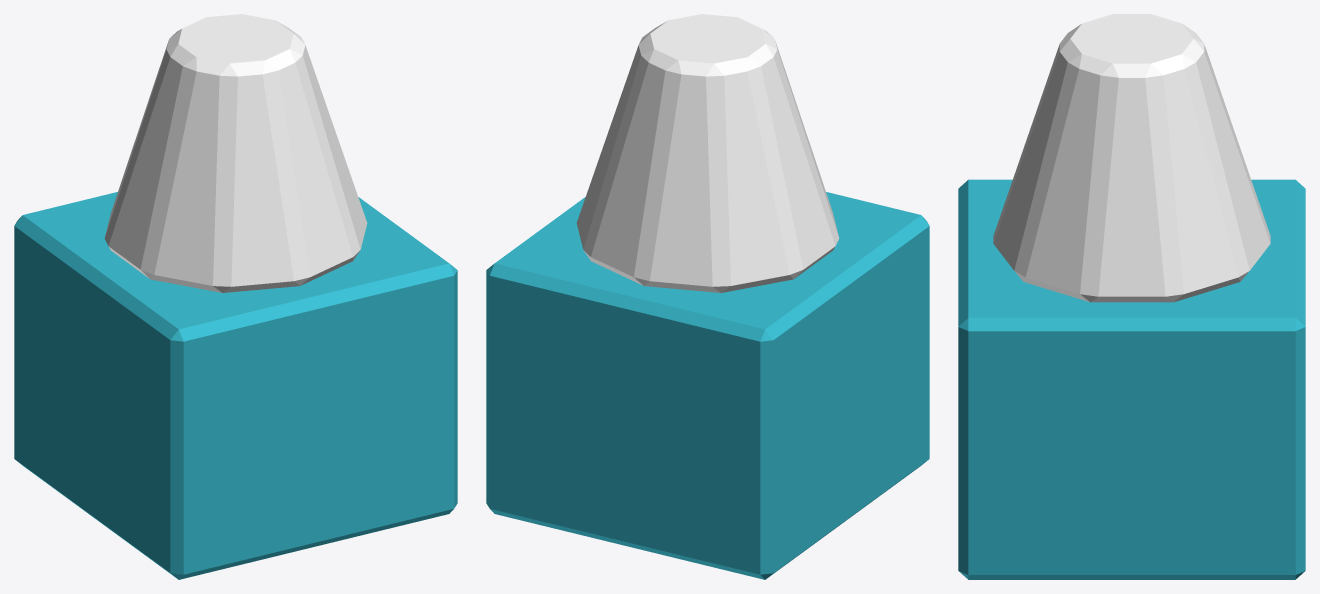
Rendered from air_launcher.glb.
3 renders of one model, left to right at view 1: azimuth 30°, elevation 25°; view 2: azimuth 150°, elevation 25°; view 3: azimuth 270°, elevation 25°, orthographic. The views are drawn at different scales.
Parts seen in each view (by area): view 1: air_launcher; view 2: air_launcher; view 3: air_launcher.
Boxes of the visible parts, <box> form: air_launcher: <box>14,14,457,579</box>; air_launcher: <box>486,14,929,579</box>; air_launcher: <box>958,14,1305,579</box>.
Bounding box in the file's own units: 0.24 × 0.36 × 0.24.
